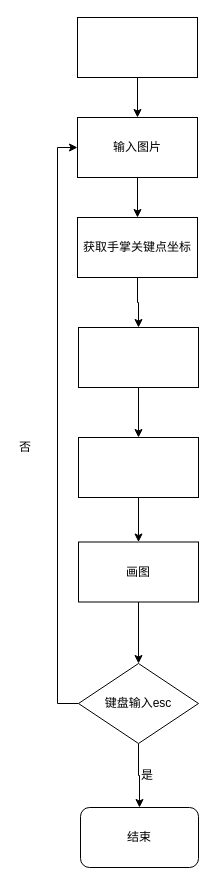
Some shapes in this 216 by 885 pixel diagram are drawn without their labels. Each missing label, with the centre of its shape:
分类: the point at 138,467
开始: the point at 137,47
截取图片: the point at 138,357
